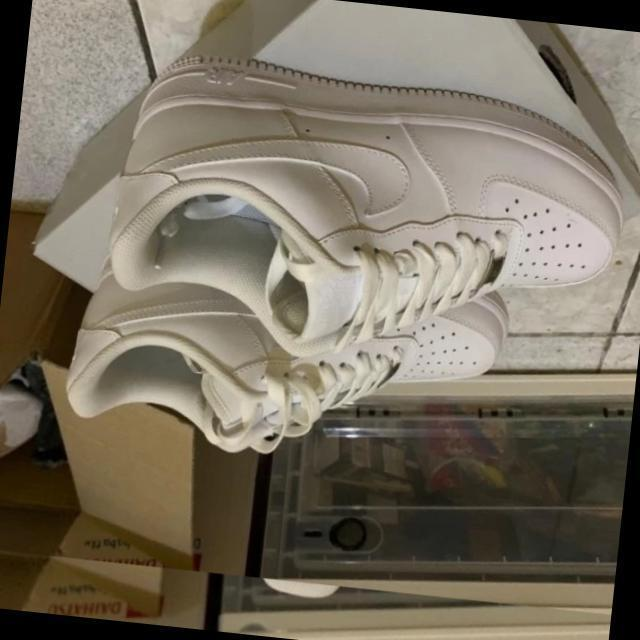nike original air force: (98, 46, 639, 388), (50, 252, 522, 474)
